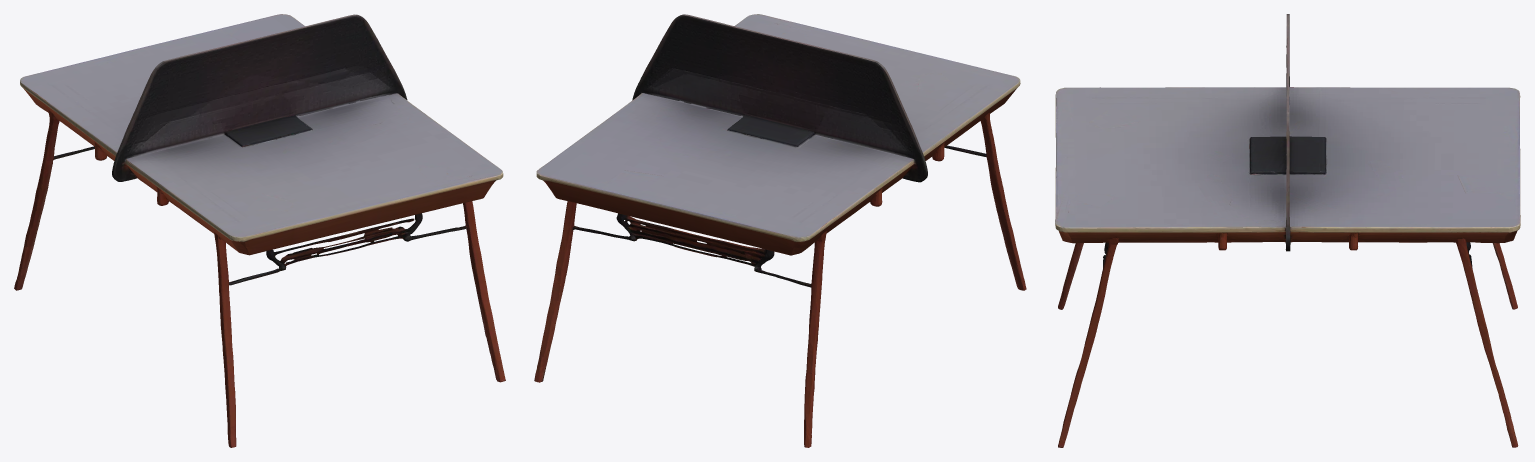
3 renders of one model, left to right at view 1: azimuth 30°, elevation 25°; view 2: azimuth 150°, elevation 25°; view 3: azimuth 270°, elevation 25°, orthographic. The views are drawn at different scales.
Visible parts, largest first — view 1: world; view 2: world; view 3: world.
Boxes of the visible parts, x1,y1,x2,y2 form: world: (14,14,505,447); world: (534,14,1026,447); world: (1055,14,1520,447).
Size of the model in its own units: 0.77 by 0.7451 by 0.9999.
1 material, 1 textured.
